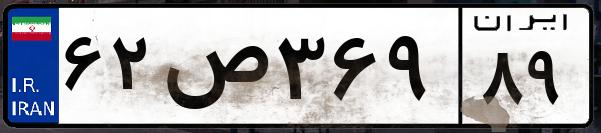2: (110, 28, 158, 98)
3: (270, 28, 330, 110)
6: (330, 28, 385, 110), (57, 26, 110, 100)
8: (475, 38, 525, 113)
9: (385, 28, 445, 110), (525, 38, 570, 115)
ص: (158, 20, 270, 120)
